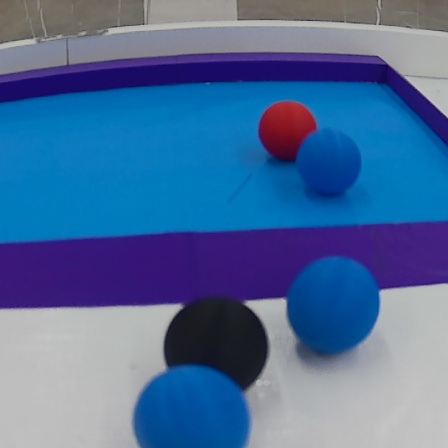black: (161, 295, 271, 400)
blue: (128, 364, 254, 448), (286, 252, 378, 361), (296, 125, 359, 196)
blue_aim: (5, 55, 448, 329)
red: (255, 99, 324, 167)
